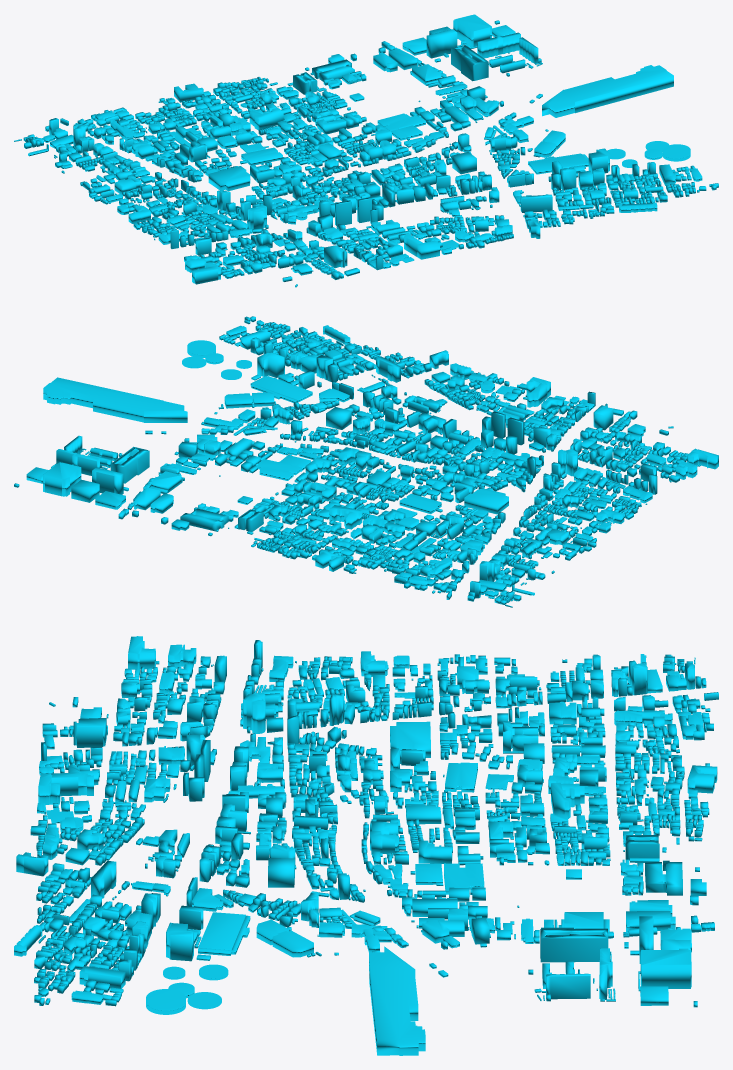
3 views of the same model, one above another, from view 1: azimuth 30°, elevation 25°; view 2: azimuth 150°, elevation 25°; view 3: azimuth 270°, elevation 25° (orthographic). The views are drawn at different scales.
Visible parts, largest first — view 1: BLD_8bd6600b-d13c-421e-937a-2fee4c80796f1; view 2: BLD_8bd6600b-d13c-421e-937a-2fee4c80796f1; view 3: BLD_8bd6600b-d13c-421e-937a-2fee4c80796f1.
Part boxes in pixels (bbox=[...]): BLD_8bd6600b-d13c-421e-937a-2fee4c80796f1: bbox=[14, 14, 718, 287]; BLD_8bd6600b-d13c-421e-937a-2fee4c80796f1: bbox=[14, 316, 718, 607]; BLD_8bd6600b-d13c-421e-937a-2fee4c80796f1: bbox=[14, 636, 718, 1055].
Size of the model in its own units: 1322 by 49.83 by 976.
